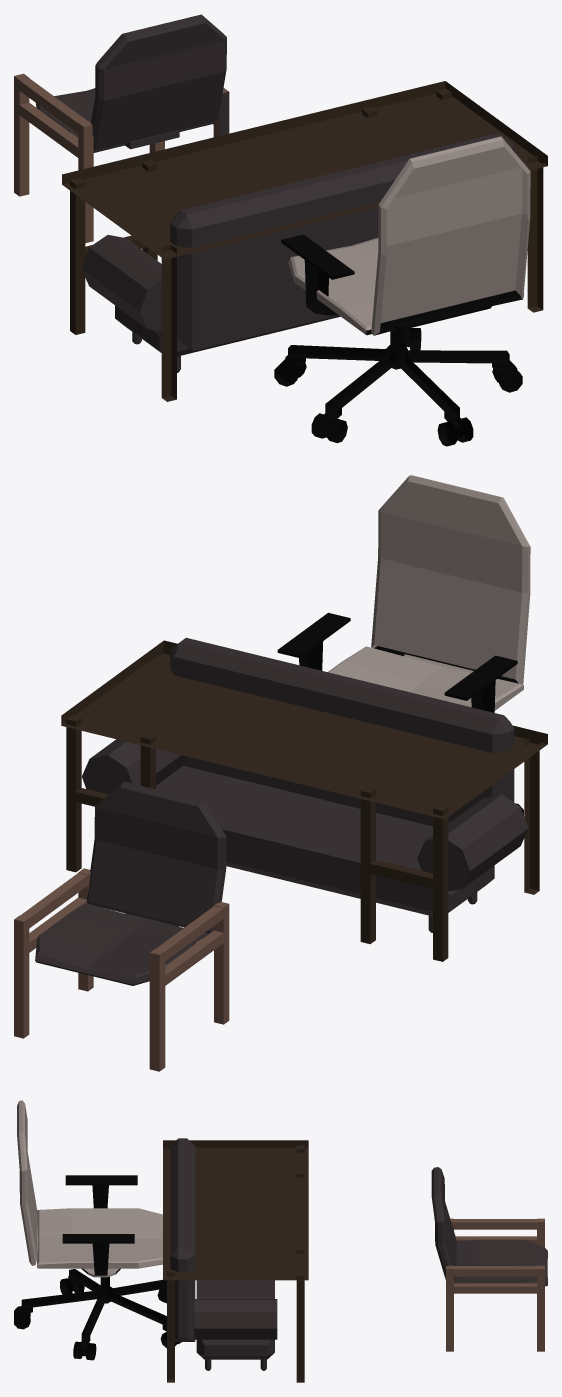
The model's file is Assets-Office.fbx.
3 views of the same model, one above another, from view 1: azimuth 30°, elevation 25°; view 2: azimuth 150°, elevation 25°; view 3: azimuth 270°, elevation 25° (orthographic). The views are drawn at different scales.
Visible parts, largest first — view 1: office chair, Table.002, Sofa, Chair.003; view 2: Sofa, Table.002, office chair, Chair.003; view 3: Table.002, office chair, Sofa, Chair.003.
Part boxes in pixels (x1,y1,x2,y2): office chair: (274,136,530,446); Table.002: (62,81,547,401); Sofa: (81,133,514,372); Chair.003: (14,14,229,243); Sofa: (82,637,528,932); Table.002: (61,640,547,961); office chair: (277,475,530,815); Chair.003: (14,782,229,1071); Table.002: (163,1140,308,1382); office chair: (14,1100,181,1360); Sofa: (170,1138,277,1370); Chair.003: (431,1167,547,1351).
Bounding box in the file's own units: 809 × 592 × 1360.
